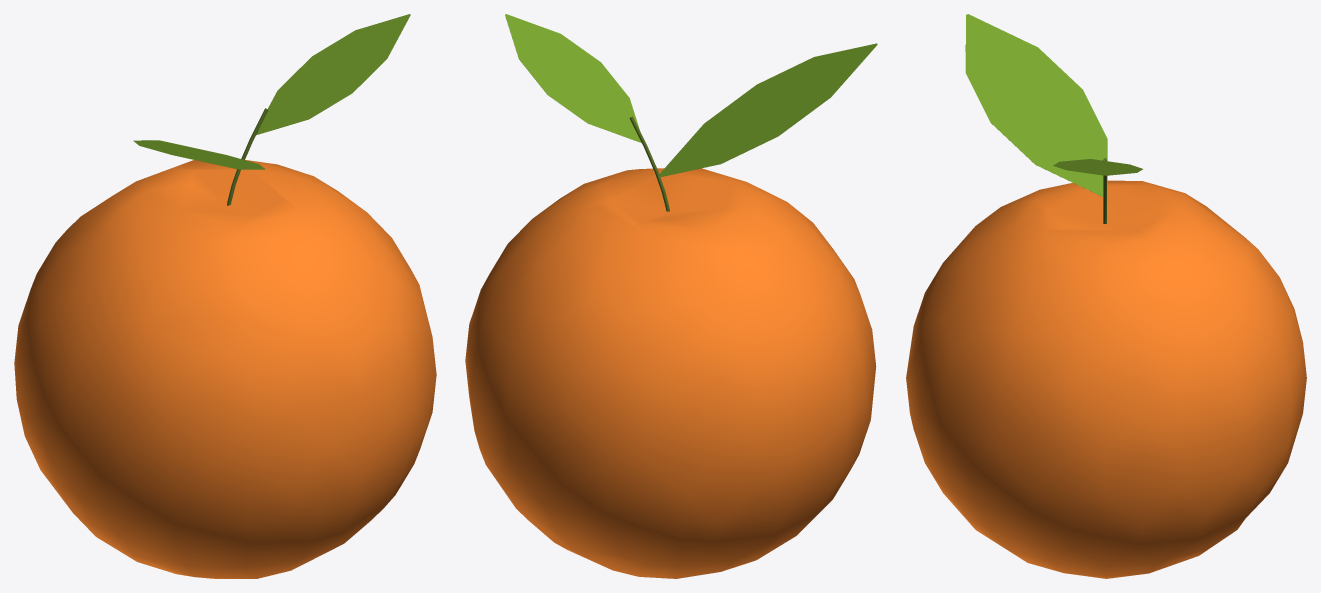
Rendered from Portakal.fbx.
The picture shows the model from 3 angles, left to right: view 1: azimuth 30°, elevation 25°; view 2: azimuth 150°, elevation 25°; view 3: azimuth 270°, elevation 25°; orthographic projection. The views are drawn at different scales.
Parts seen in each view (by area): view 1: Orange; view 2: Orange; view 3: Orange.
Part boxes in pixels (bbox=[...]): Orange: bbox=[14, 14, 436, 578]; Orange: bbox=[465, 14, 877, 578]; Orange: bbox=[906, 14, 1306, 578].
Bounding box in the file's own units: 19.68 × 26.27 × 19.73.
